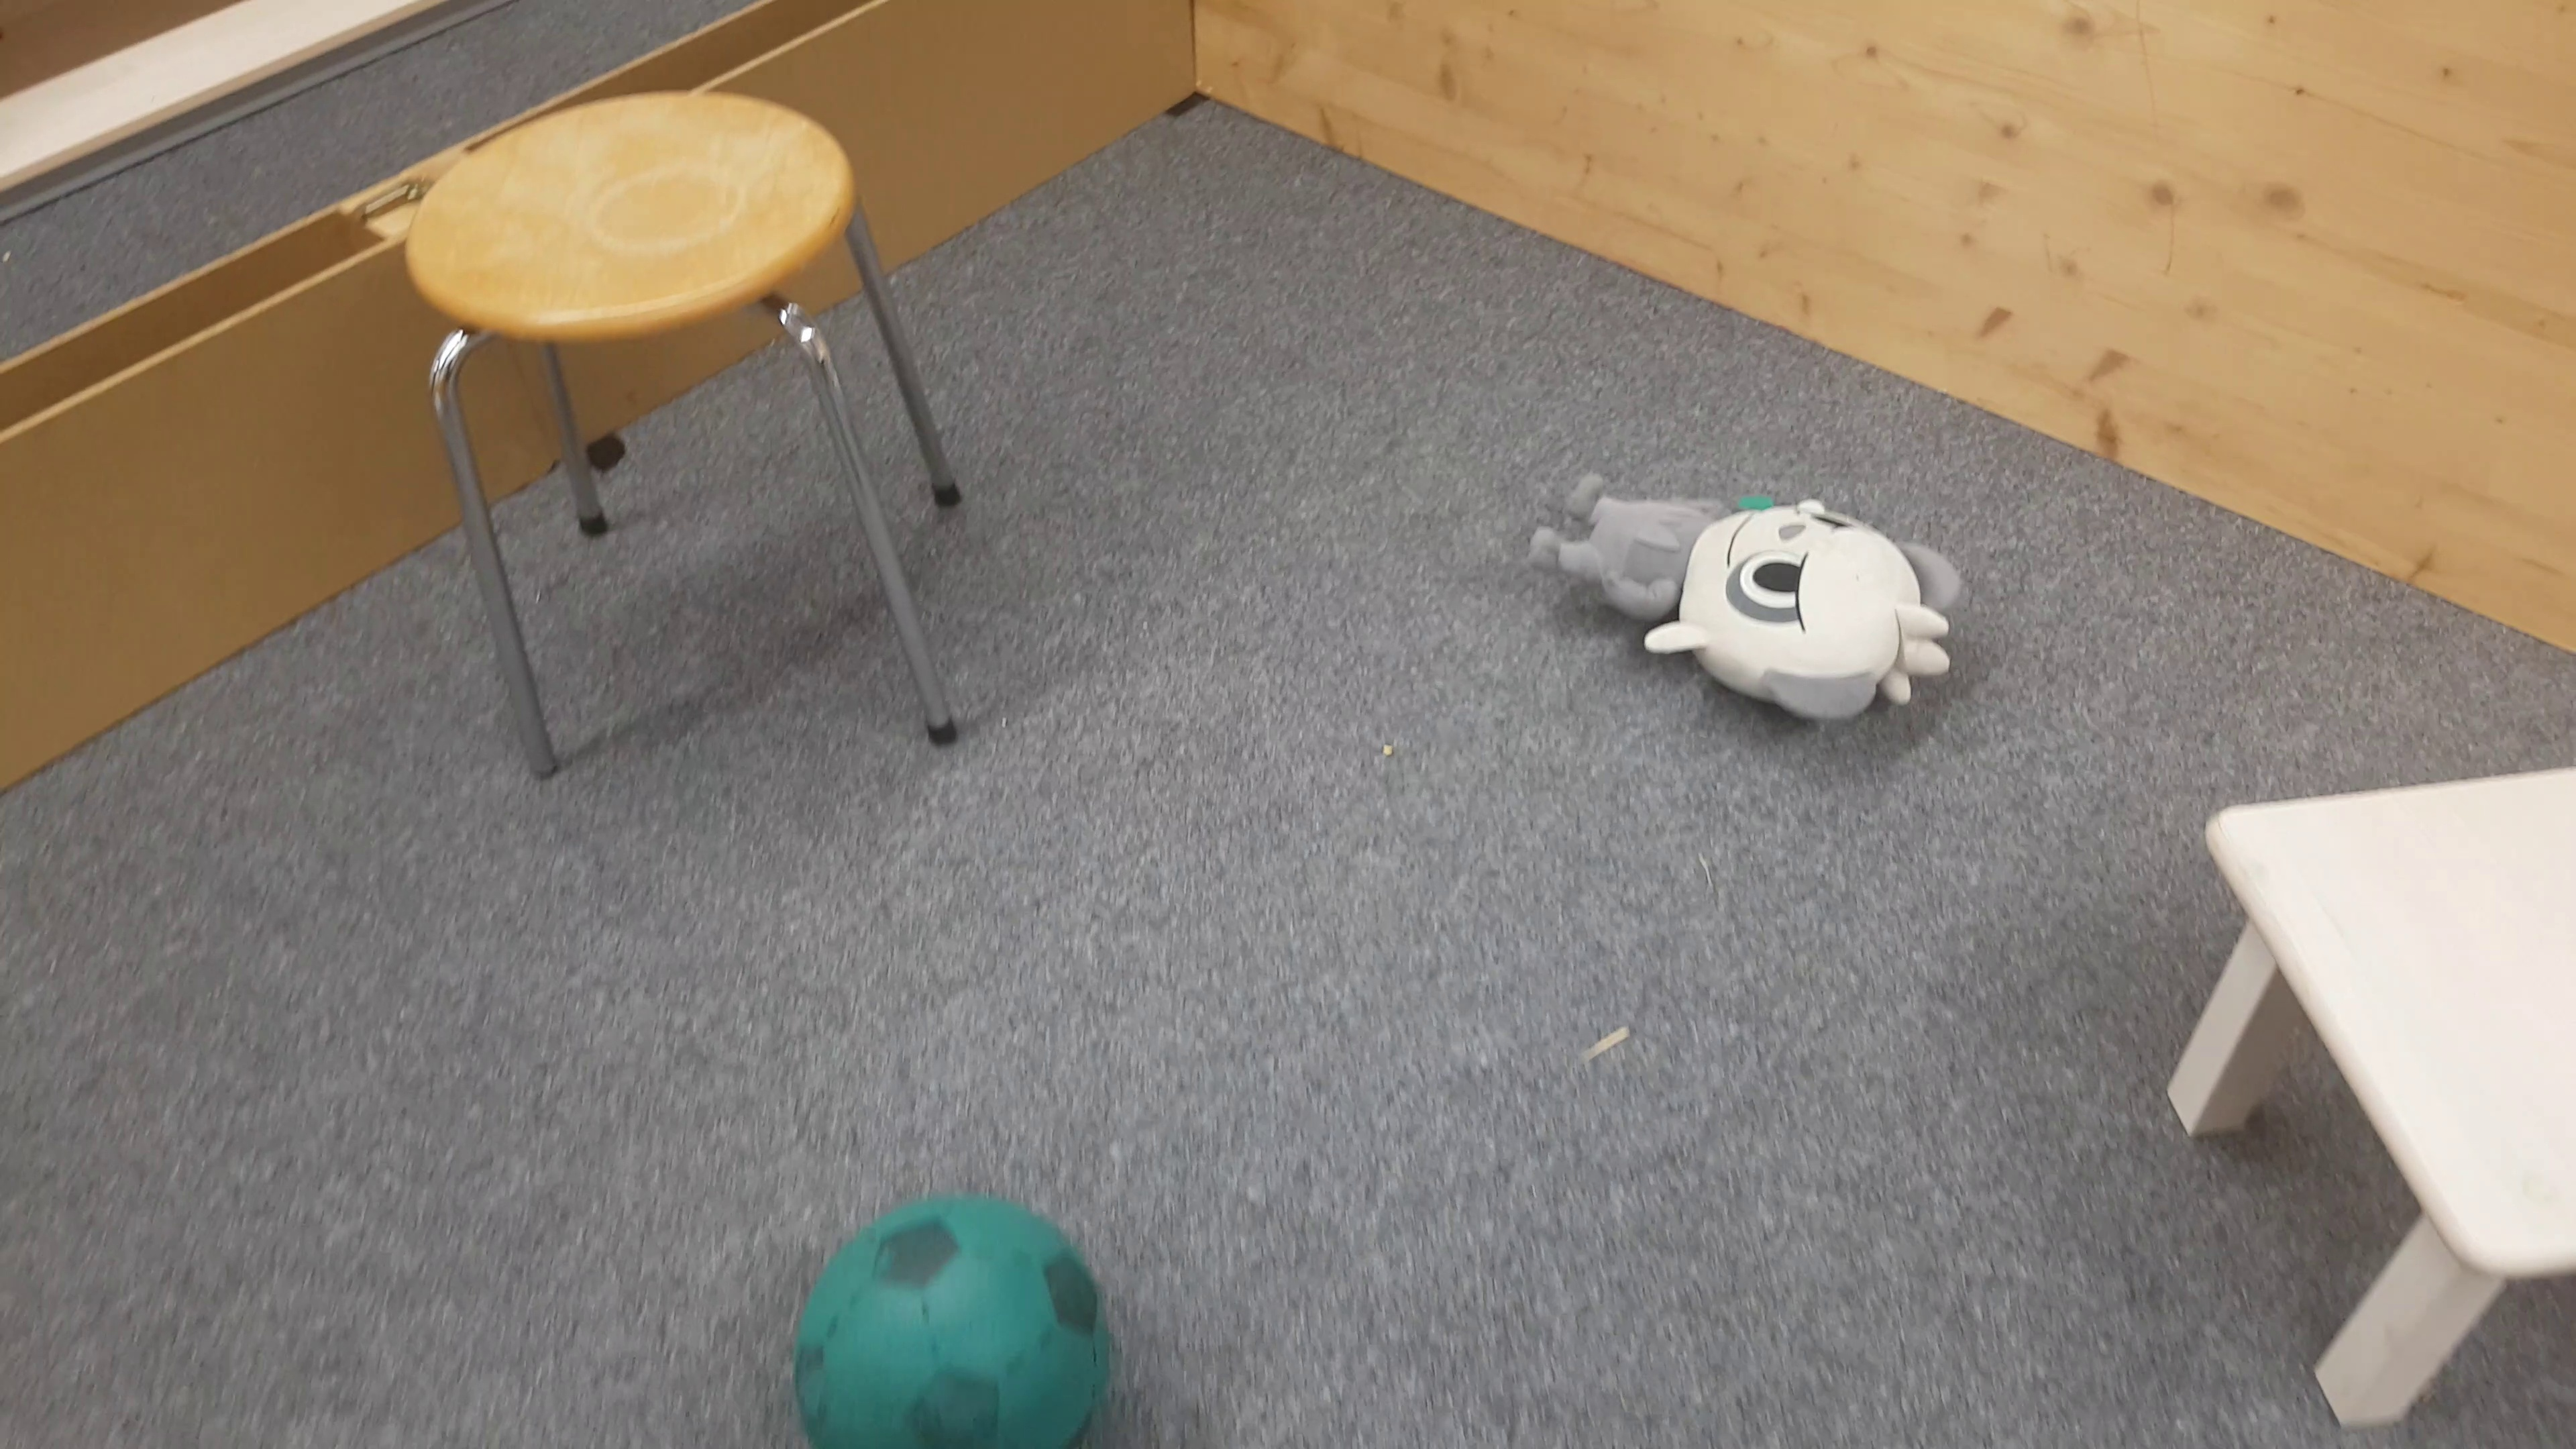grasp: (1529, 467, 1976, 718)
kick: (789, 1184, 1123, 1449)
